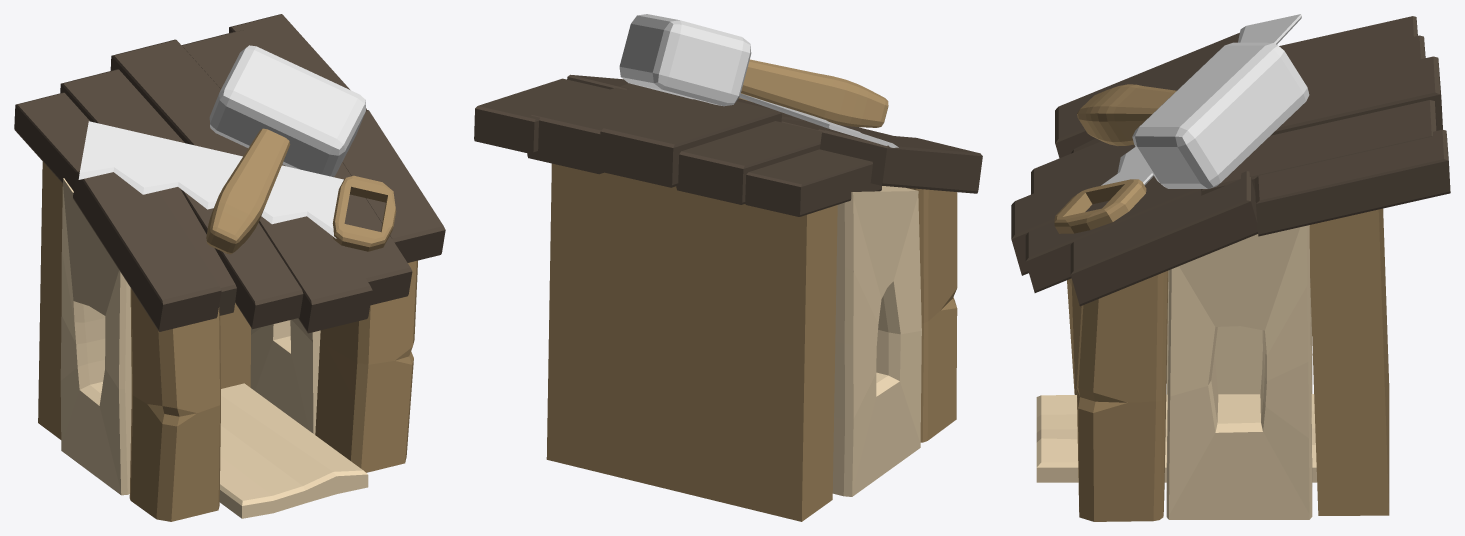
Rendered from builder.fbx.
3 renders of one model, left to right at view 1: azimuth 30°, elevation 25°; view 2: azimuth 150°, elevation 25°; view 3: azimuth 270°, elevation 25°, orthographic. The views are drawn at different scales.
Parts seen in each view (by area): view 1: Object_7; view 2: Object_7; view 3: Object_7.
Part boxes in pixels (bbox=[...]): Object_7: bbox=[14, 14, 445, 521]; Object_7: bbox=[474, 14, 982, 521]; Object_7: bbox=[1011, 14, 1450, 521].
Bounding box in the file's own units: 51.5 × 62.26 × 57.2.
